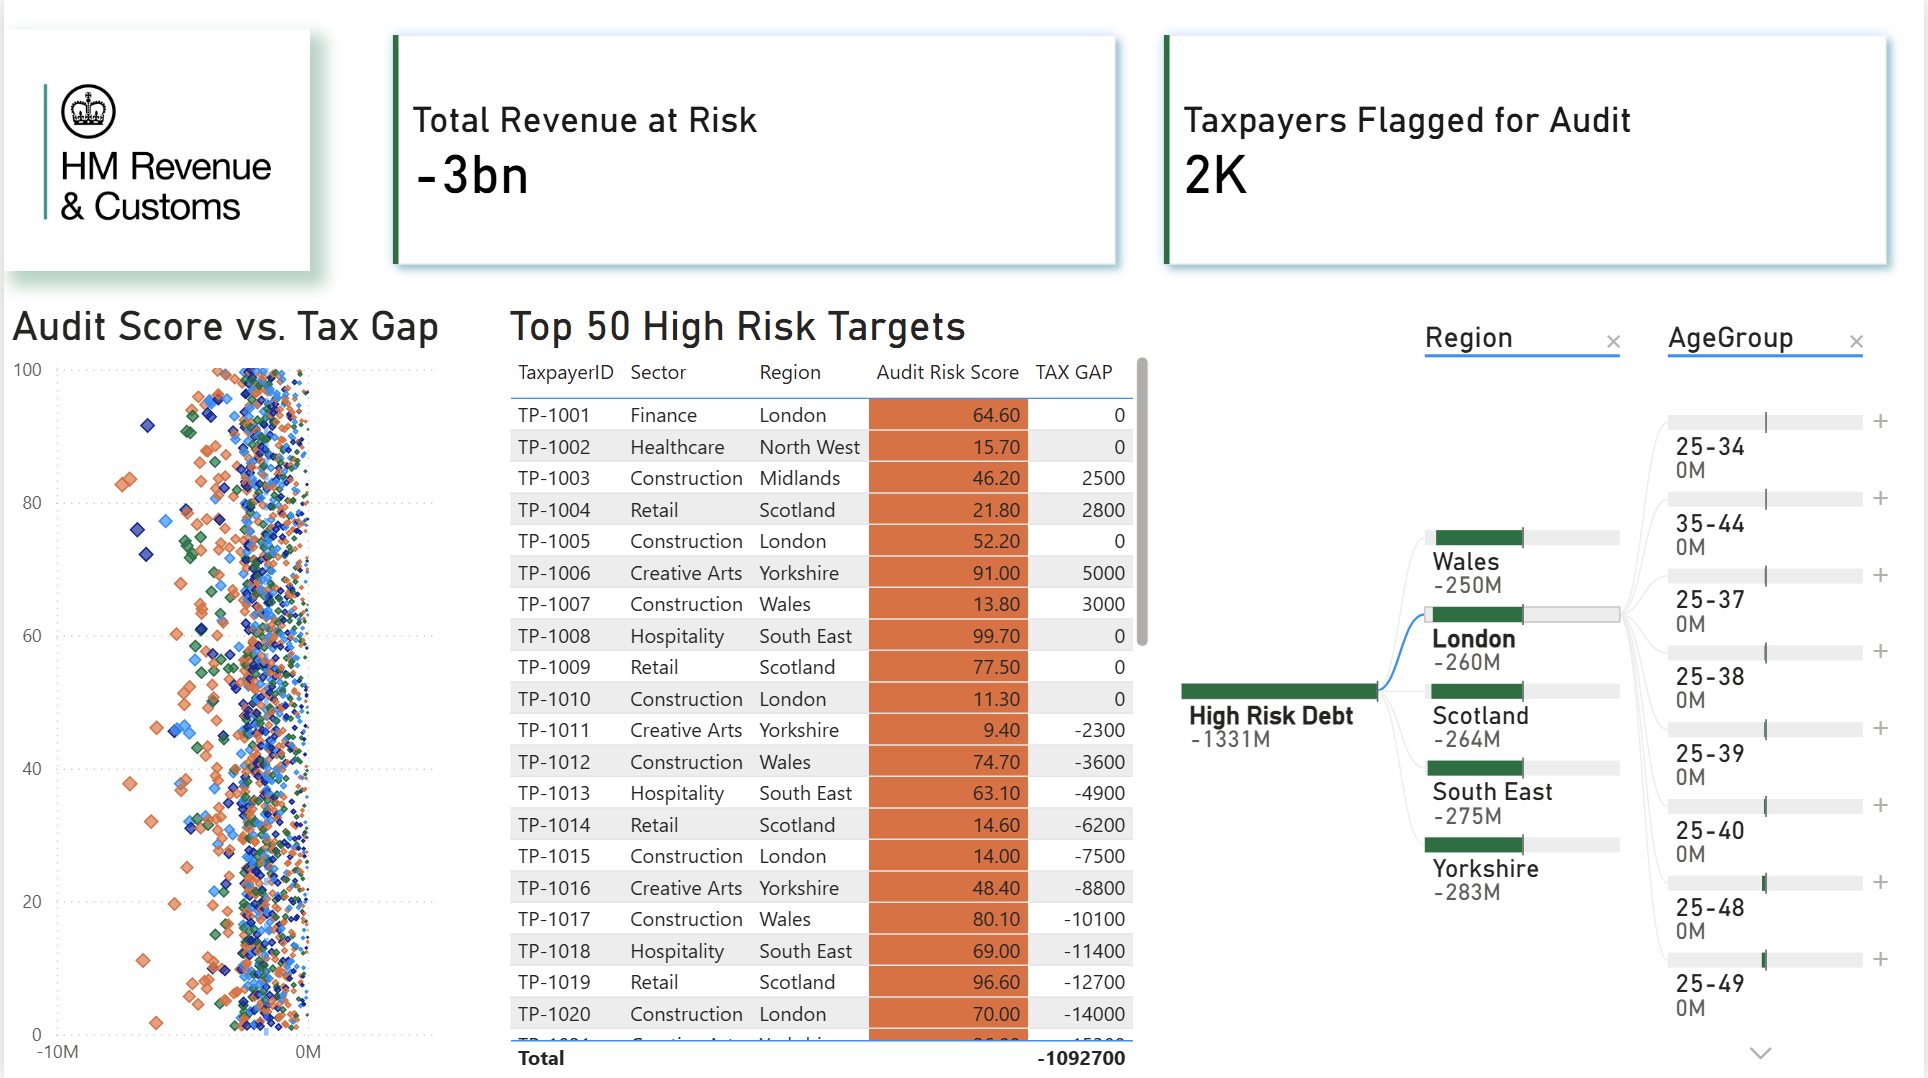

The dashboard page shown, as its layout file describes it:
{"tool":"powerbi","page":{"name":"Risk and Audit","canvas":[1280,720],"ordinal":2},"visuals":[{"type":"cardVisual","fields":{"Data":["HMRC TAXDUE/TAXPAID.TAX GAP","HMRC TAX_PAYER.High Risk Count"]},"box":[234.3,0,1045.2,201.3],"z":0},{"type":"image","box":[0,20.1,204.2,161],"z":1000},{"type":"scatterChart","title":"Audit Score vs. Tax Gap","fields":{"X":["HMRC TAXDUE/TAXPAID.TAX GAP"],"Size":["HMRC TAXDUE/TAXPAID.AmountDue"],"Series":["HMRC TAX_PAYER.Sector"],"Y":["HMRC TAX_PAYER.Audit Risk Score "]},"box":[0,201.7,300,518.3],"z":2000},{"type":"decompositionTreeVisual","fields":{"ExplainBy":["HMRC TAX_PAYER.Region","HMRC TAX_PAYER.AgeGroup","HMRC TAX_PAYER.Sector","HMRC FACT_FILING.FilingMethod"],"Analyze":["HMRC TAX_PAYER.High Risk Debt"]},"box":[755,201.7,525,518.3],"z":3000},{"type":"tableEx","title":"Top 50  High Risk Targets","fields":{"Values":["HMRC TAX_PAYER.TaxpayerID","HMRC TAX_PAYER.Sector","HMRC TAX_PAYER.Region","HMRC TAX_PAYER.Audit Risk Score ","HMRC TAXDUE/TAXPAID.TAX GAP"]},"box":[331.7,201.7,436.7,518.3],"z":4000}]}

Visuals, with their boxes in screenshot pixels (x1, y1, x2, y2), scaled from the page's 1280x720 canvas onto the 1928x1078 screenshot:
cardVisual - HMRC TAXDUE/TAXPAID.TAX GAP x HMRC TAX_PAYER.High Risk Count: {"x1": 353, "y1": 0, "x2": 1927, "y2": 301}
image: {"x1": 0, "y1": 30, "x2": 308, "y2": 271}
"Audit Score vs. Tax Gap" scatterChart: {"x1": 0, "y1": 302, "x2": 452, "y2": 1077}
decompositionTreeVisual - HMRC TAX_PAYER.Region x HMRC TAX_PAYER.AgeGroup: {"x1": 1137, "y1": 302, "x2": 1927, "y2": 1077}
"Top 50  High Risk Targets" tableEx: {"x1": 500, "y1": 302, "x2": 1157, "y2": 1077}
